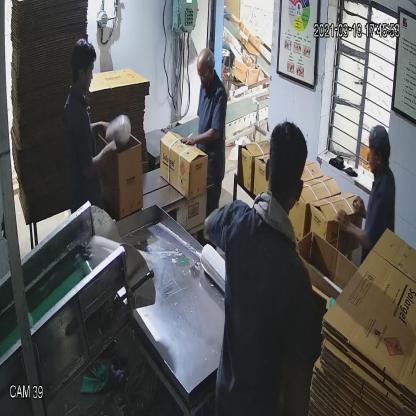no_glove: (332, 201, 375, 254), (182, 119, 227, 156), (82, 140, 124, 176)
